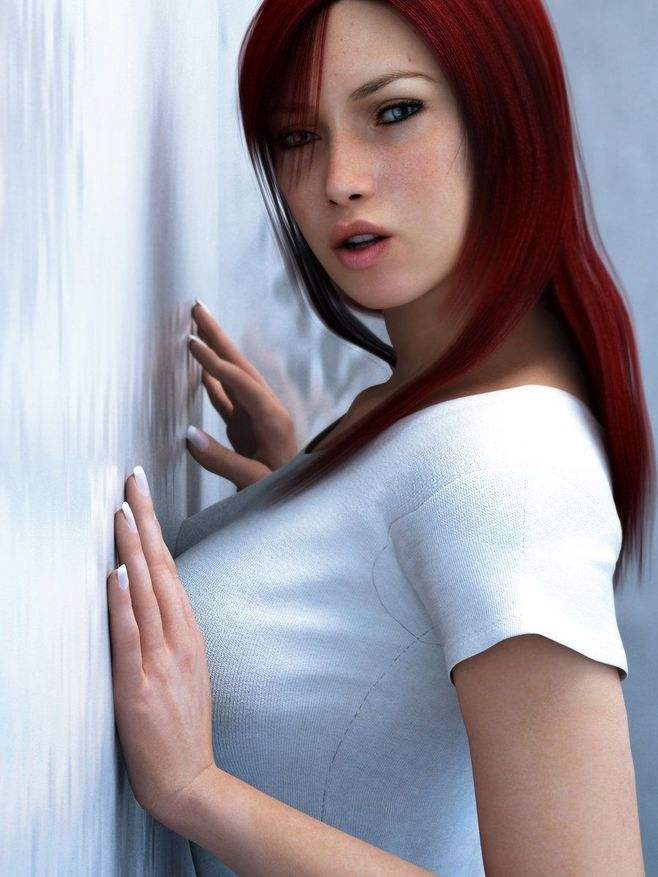person: (155, 9, 604, 846)
